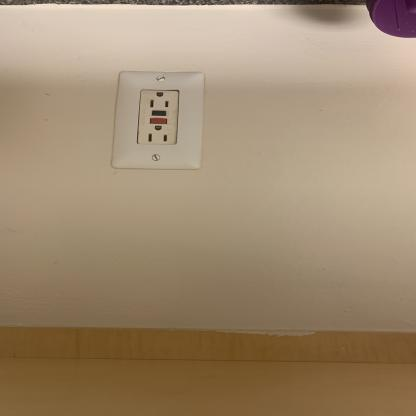OUTLET: (114, 70, 206, 169)
